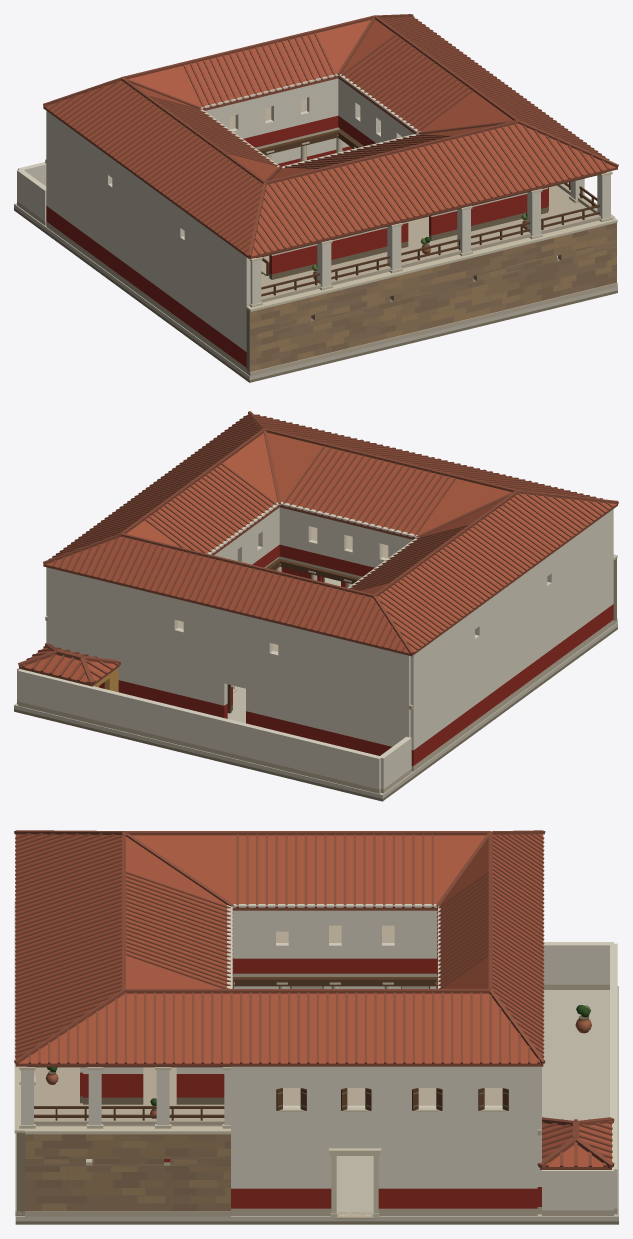
The model's file is rome_domus_h.glb.
The picture shows the model from 3 angles, top to bottom: view 1: azimuth 30°, elevation 25°; view 2: azimuth 150°, elevation 25°; view 3: azimuth 270°, elevation 25°; orthographic projection. The views are drawn at different scales.
Visible parts, largest first — view 1: rome_domus_h; view 2: rome_domus_h; view 3: rome_domus_h.
Part boxes in pixels (bbox=[...]): rome_domus_h: bbox=[14, 14, 618, 382]; rome_domus_h: bbox=[14, 411, 618, 801]; rome_domus_h: bbox=[14, 830, 618, 1224].
Size of the model in its own units: 28.31 by 11.28 by 31.08.
